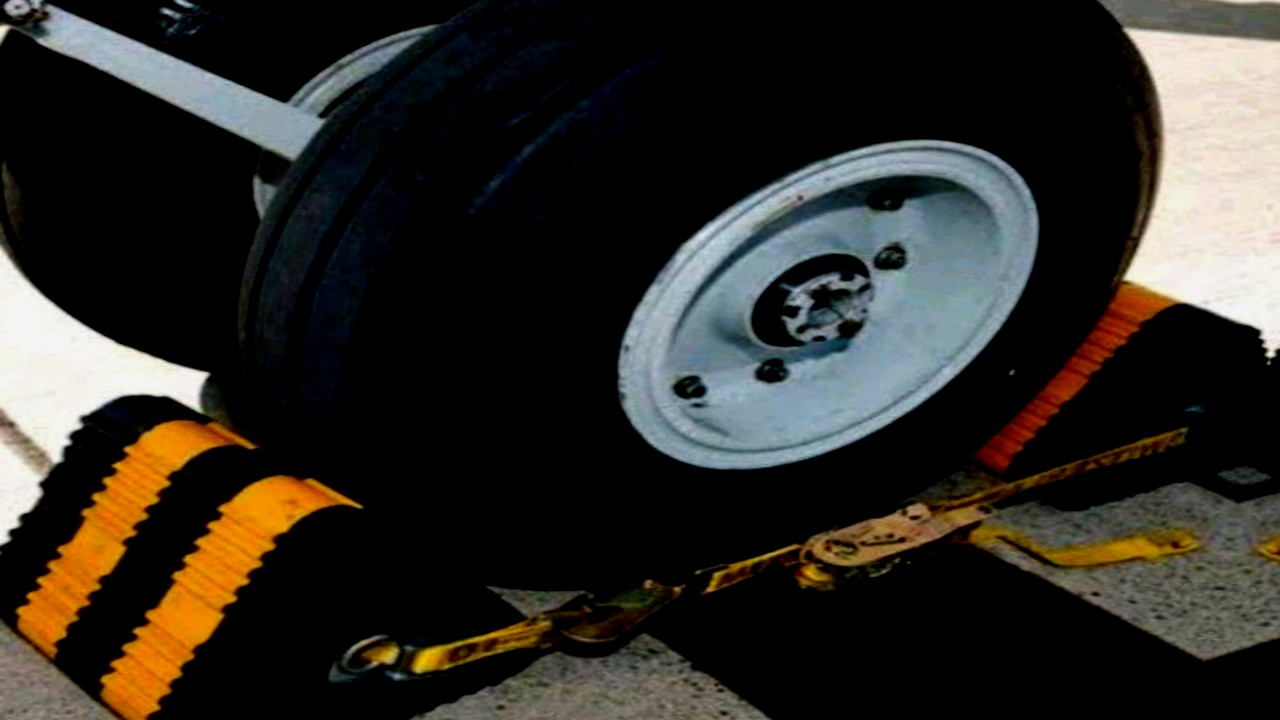chock: (0, 386, 595, 720), (890, 263, 1280, 523)
wheel: (200, 0, 1218, 608), (0, 0, 547, 377)
